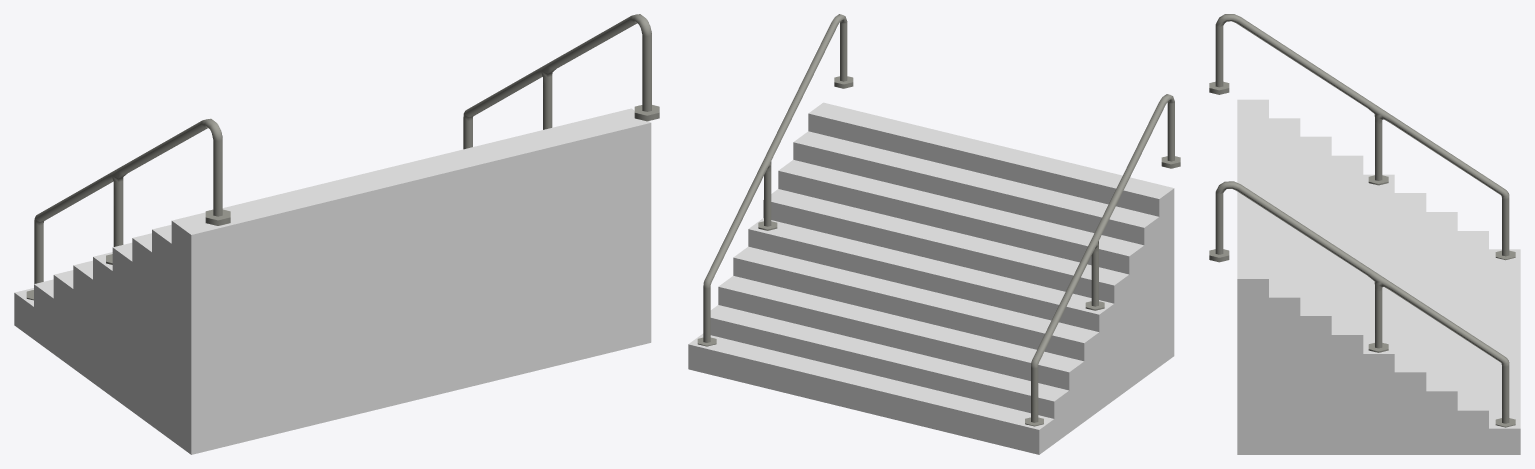
The model's file is Pool_stairs_01.fbx.
The picture shows the model from 3 angles, left to right: view 1: azimuth 30°, elevation 25°; view 2: azimuth 150°, elevation 25°; view 3: azimuth 270°, elevation 25°; orthographic projection. The views are drawn at different scales.
Parts seen in each view (by area): view 1: pool_stairs; view 2: pool_stairs; view 3: pool_stairs.
Part boxes in pixels (<box>): pool_stairs: <box>14,14,659,454</box>; pool_stairs: <box>688,14,1180,454</box>; pool_stairs: <box>1209,14,1520,454</box>.
Bounding box in the file's own units: 300 × 208 × 220.
Materials: 1 (1 with a texture image).
